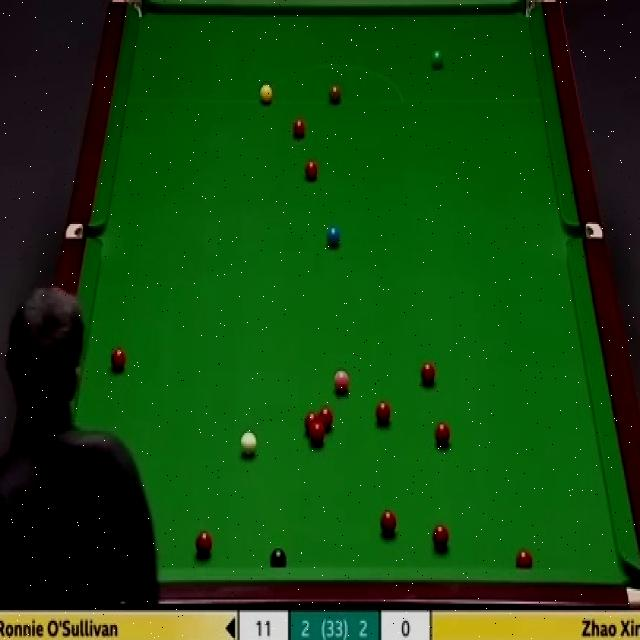black-ball: (270, 548, 287, 568)
blue-ball: (326, 224, 340, 249)
brown-ball: (326, 81, 342, 106)
green-ball: (428, 49, 445, 70)
pink-ball: (334, 366, 350, 394)
red-ball: (419, 360, 437, 390), (431, 524, 449, 552), (109, 346, 127, 374), (195, 530, 213, 557), (380, 508, 397, 536), (433, 419, 450, 446), (303, 156, 320, 182), (374, 399, 390, 426), (319, 407, 334, 434), (516, 548, 533, 569), (292, 117, 306, 139), (310, 424, 324, 446), (305, 411, 318, 433)
white-ball: (239, 428, 258, 463)
yellow-ball: (258, 82, 272, 103)
